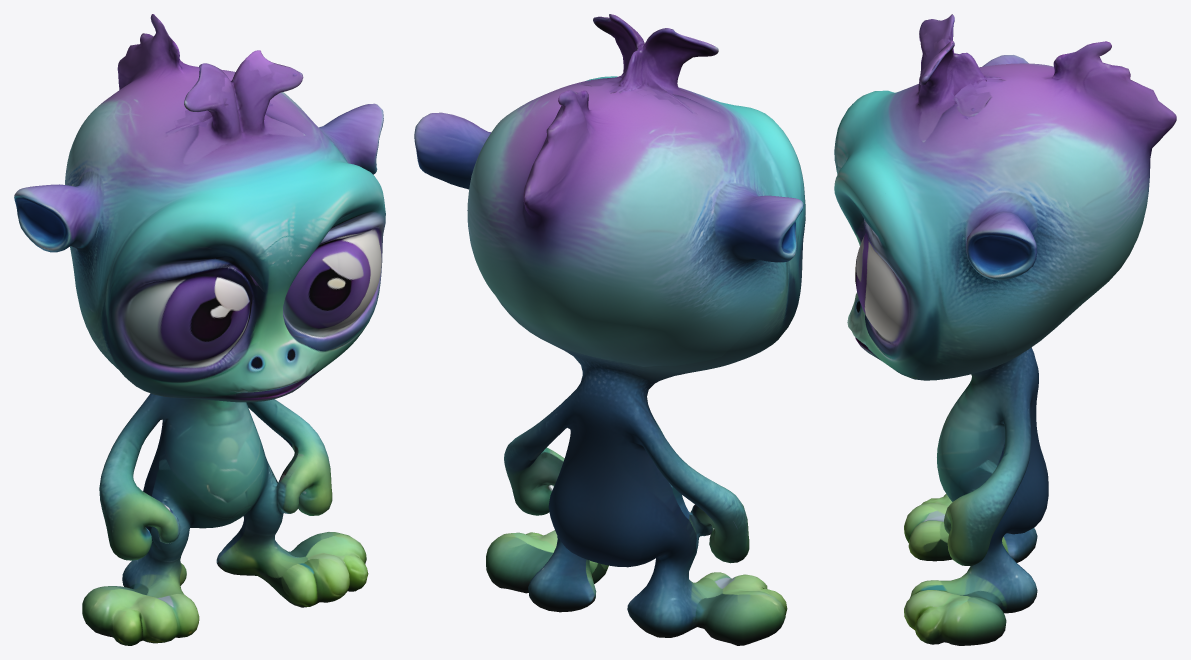
Rendered from alien.glb.
3 views of the same model, side by side, from view 1: azimuth 30°, elevation 25°; view 2: azimuth 150°, elevation 25°; view 3: azimuth 270°, elevation 25° (orthographic). The views are drawn at different scales.
Parts seen in each view (by area): view 1: Object_2; view 2: Object_2; view 3: Object_2.
Boxes of the visible parts, <box> form: Object_2: <box>14,14,385,645</box>; Object_2: <box>414,14,805,645</box>; Object_2: <box>834,14,1176,645</box>.
Bounding box in the file's own units: 1.29 × 1.89 × 1.05.
Materials: 1 (1 with a texture image).
